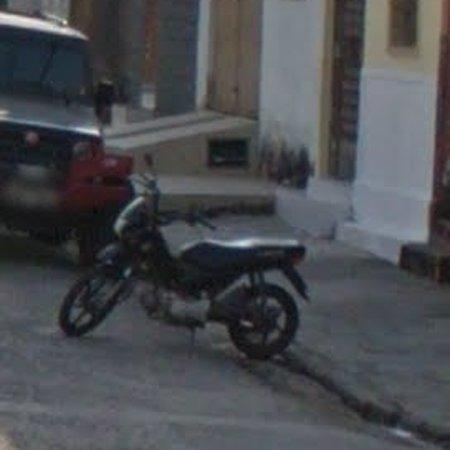motorcycles: (59, 175, 309, 360)
